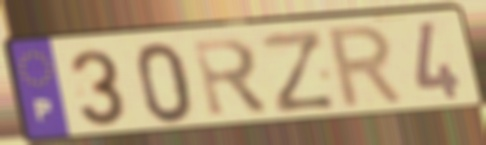0: (134, 39, 196, 126)
3: (66, 47, 128, 130)
4: (411, 18, 464, 105)
R: (325, 21, 410, 114), (190, 35, 274, 122)
Z: (257, 28, 339, 118)
